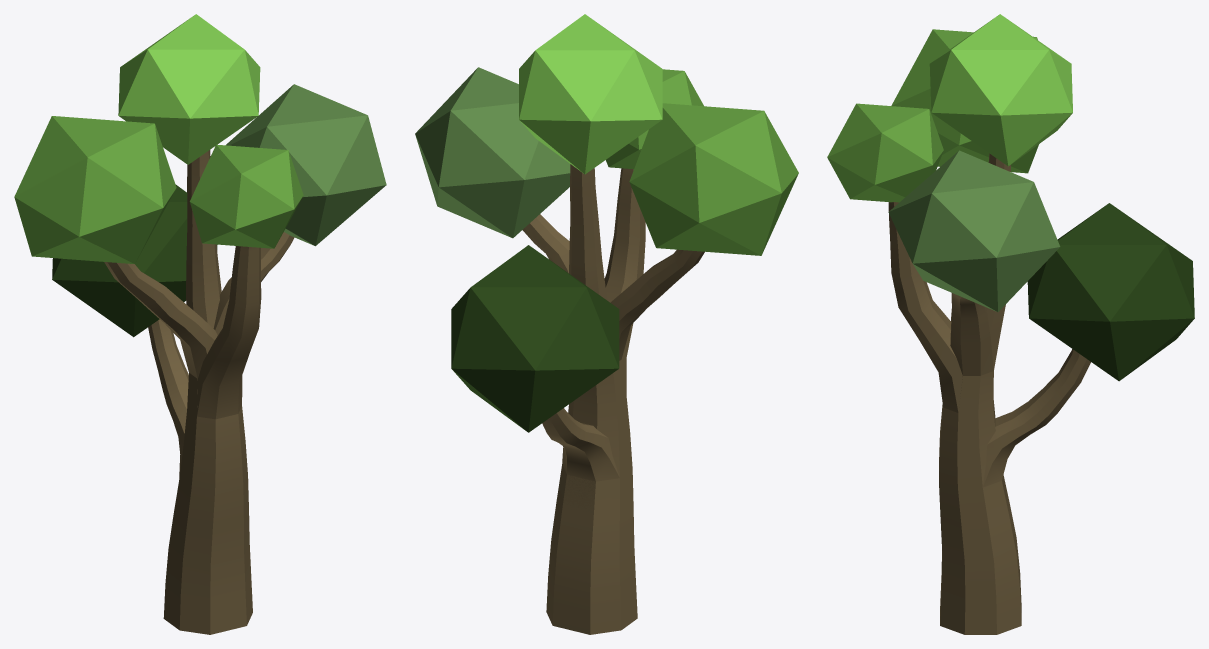
The model's file is Tree_4.fbx.
3 renders of one model, left to right at view 1: azimuth 30°, elevation 25°; view 2: azimuth 150°, elevation 25°; view 3: azimuth 270°, elevation 25°, orthographic. The views are drawn at different scales.
Parts seen in each view (by area): view 1: polySurface10; view 2: polySurface10; view 3: polySurface10.
Boxes of the visible parts, x1,y1,x2,y2 form: polySurface10: (14, 14, 386, 634); polySurface10: (415, 14, 798, 634); polySurface10: (827, 14, 1194, 634).
Size of the model in its own units: 3.18 by 4.89 by 2.82.
